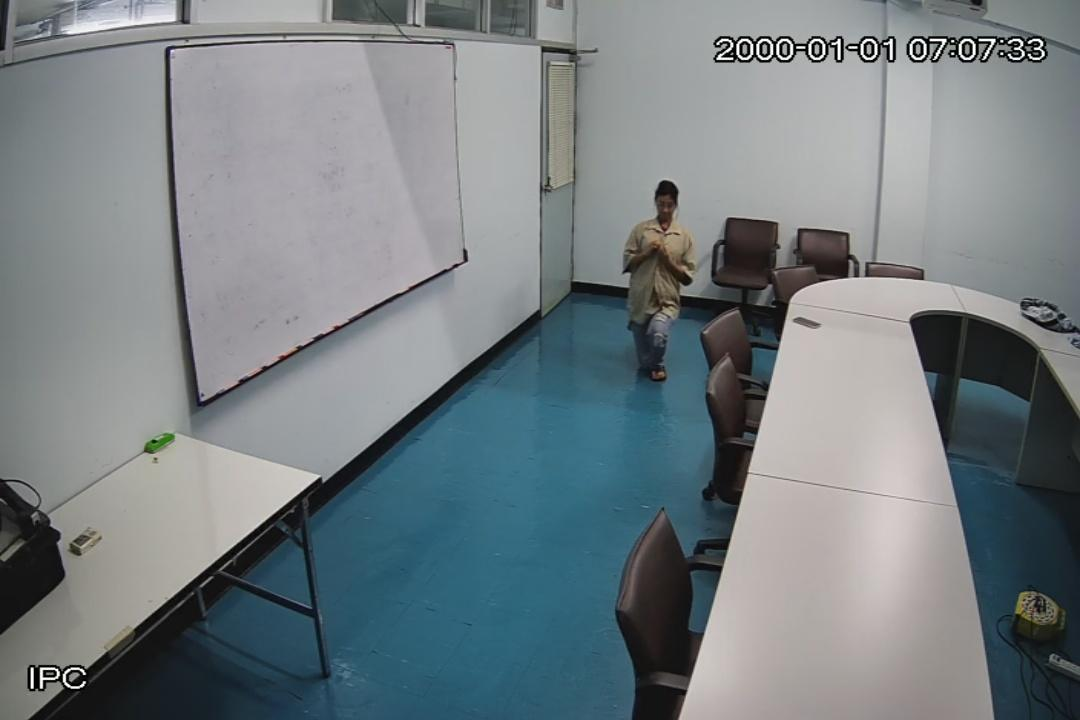normal: (622, 179, 697, 384)
